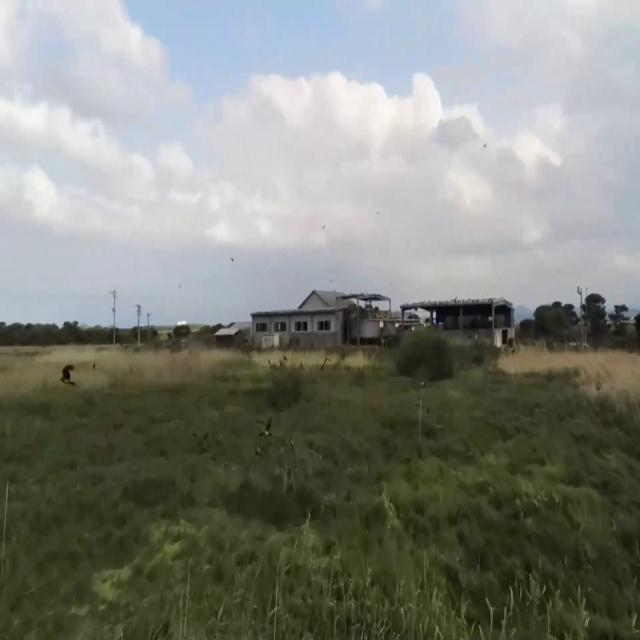bird: (321, 352, 328, 373)
